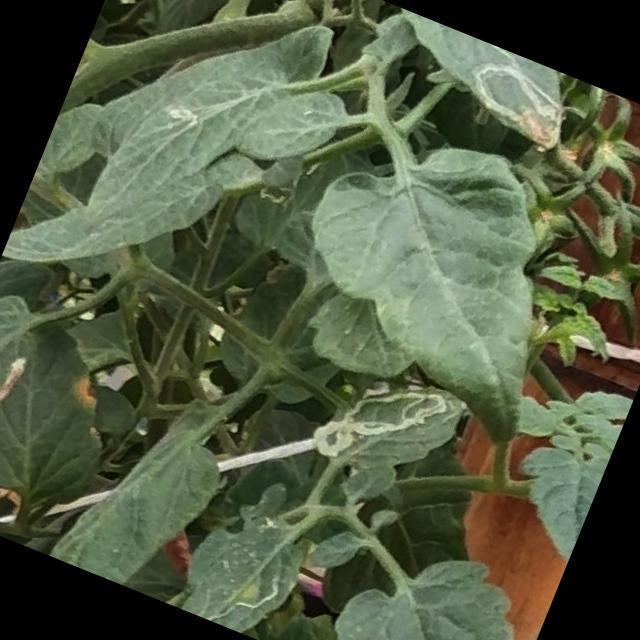Tomato target spot leaf: (0, 0, 340, 348), (364, 5, 586, 156), (311, 509, 558, 640), (304, 345, 473, 506), (168, 485, 322, 640), (0, 280, 56, 499)
